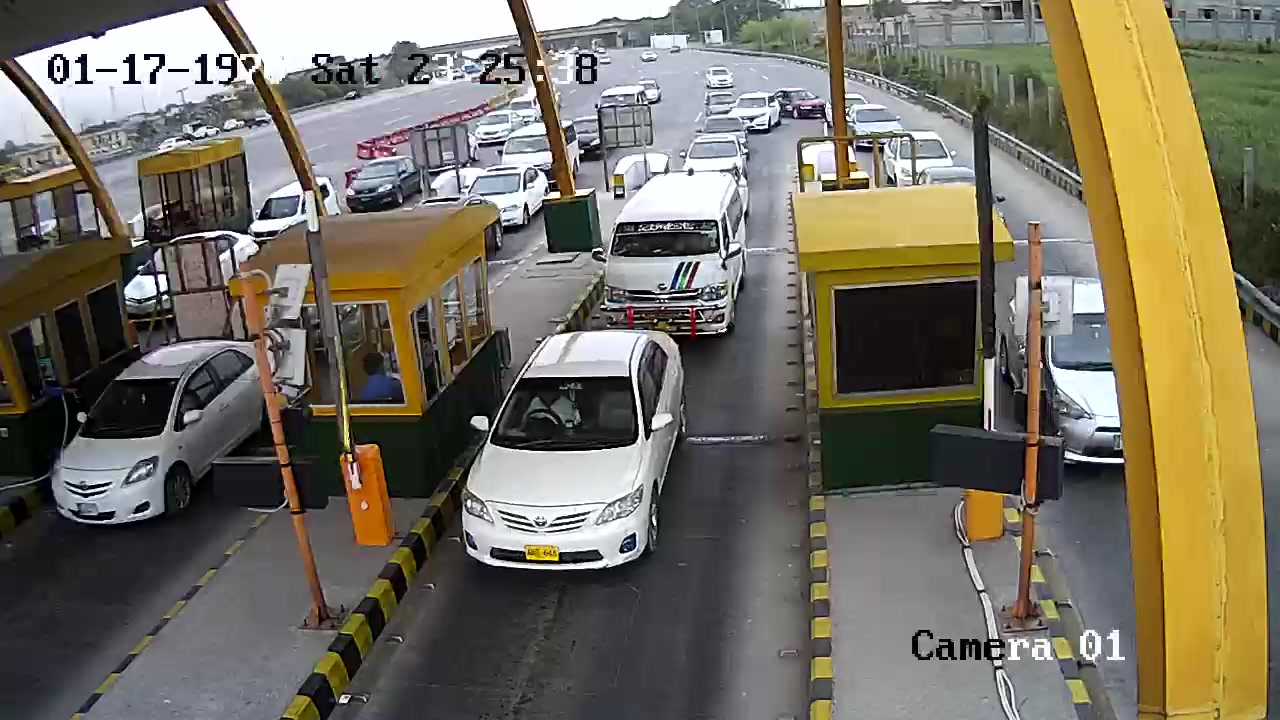F1: (453, 330, 705, 574)
